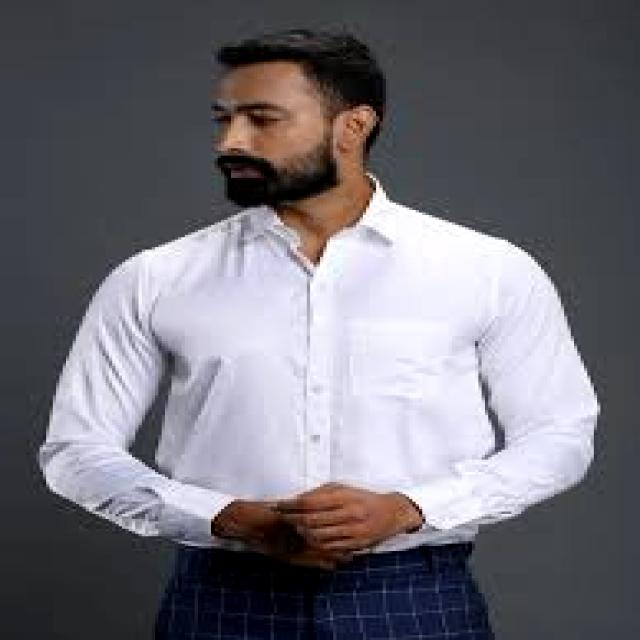face: (212, 62, 339, 205)
lower-wear: (156, 544, 494, 639)
top-wear: (40, 176, 597, 553)
